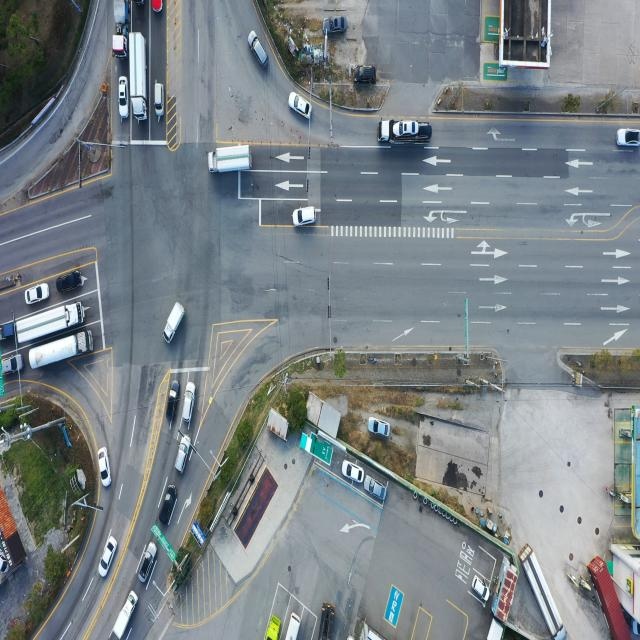car: (160, 485, 179, 528), (138, 541, 157, 584), (100, 537, 118, 578), (249, 31, 269, 67), (175, 435, 192, 476), (290, 93, 312, 121), (365, 478, 388, 503), (57, 272, 83, 294), (98, 447, 112, 487), (182, 381, 195, 422), (367, 417, 390, 439), (1, 354, 24, 376), (168, 381, 180, 422), (27, 283, 50, 304), (343, 460, 364, 483), (294, 207, 318, 227), (354, 65, 377, 85), (324, 17, 347, 36), (618, 130, 640, 149), (118, 78, 128, 119), (266, 616, 282, 640), (154, 83, 164, 119), (152, 0, 162, 13)
medium_truck: (521, 542, 567, 638), (14, 303, 86, 347), (27, 328, 94, 372), (131, 31, 150, 120), (377, 119, 430, 145), (209, 147, 254, 176), (114, 0, 131, 53), (318, 603, 335, 640), (280, 614, 301, 640)
small_truck: (111, 590, 138, 640), (162, 305, 183, 347), (0, 320, 16, 341)
